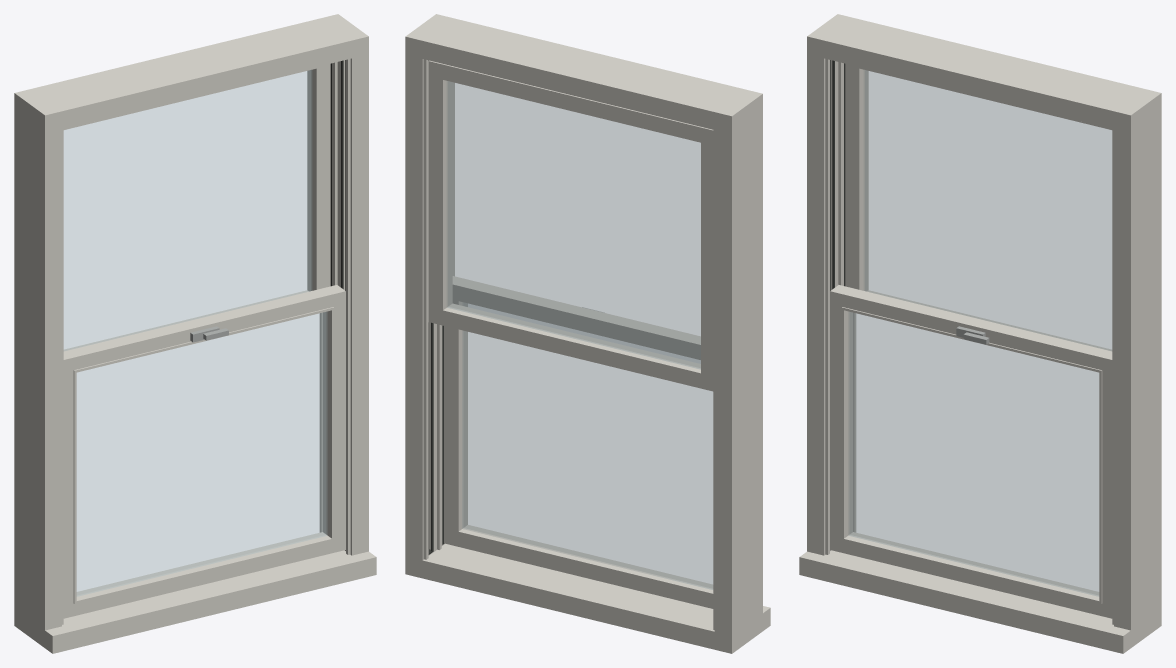
The picture shows the model from 3 angles, left to right: view 1: azimuth 30°, elevation 25°; view 2: azimuth 150°, elevation 25°; view 3: azimuth 330°, elevation 25°; orthographic projection.
Parts seen in each view (by area): view 1: Lower_sealed_glazing_solid, Upper_sealed_glazing_solid, Fixed_frame_head_jambs_sill, Lower_complete_rails_stiles, Interior_sill_projection, Upper_complete_rails_stiles, Lower_glazing_bead, 1_inner_jamb_stop, 1_divider_jamb_stop, Upper_glazing_bead, -1_inner_jamb_stop, Lower_1_enclosed_balance_case (+1 smaller); view 2: Fixed_frame_head_jambs_sill, Upper_sealed_glazing_solid, Lower_sealed_glazing_solid, Upper_complete_rails_stiles, Lower_complete_rails_stiles, 1_outer_jamb_stop, 1_divider_jamb_stop, -1_outer_jamb_stop, Upper_1_enclosed_balance_case, 1_inner_jamb_stop; view 3: Lower_sealed_glazing_solid, Upper_sealed_glazing_solid, Fixed_frame_head_jambs_sill, Lower_complete_rails_stiles, Interior_sill_projection, Upper_complete_rails_stiles, Lower_glazing_bead, -1_inner_jamb_stop, -1_divider_jamb_stop, Upper_glazing_bead, 1_inner_jamb_stop, Lower_-1_enclosed_balance_case (+1 smaller).
Boxes of the visible parts, x1,y1,x2,y2 form: Lower_sealed_glazing_solid: (77,312,327,596); Upper_sealed_glazing_solid: (64,70,311,350); Fixed_frame_head_jambs_sill: (14,14,368,647); Lower_complete_rails_stiles: (63,285,345,618); Interior_sill_projection: (45,551,376,653); Upper_complete_rails_stiles: (63,63,330,351); Lower_glazing_bead: (73,307,334,603); 1_inner_jamb_stop: (346,59,350,554); 1_divider_jamb_stop: (332,62,337,285); Upper_glazing_bead: (63,66,318,289); -1_inner_jamb_stop: (62,129,63,624); Lower_1_enclosed_balance_case: (341,60,345,550); Fixed_frame_head_jambs_sill: (405,14,762,653); Upper_sealed_glazing_solid: (447,81,700,369); Lower_sealed_glazing_solid: (462,303,712,589); Upper_complete_rails_stiles: (428,60,713,391); Lower_complete_rails_stiles: (444,276,713,608); 1_outer_jamb_stop: (423,59,428,559); 1_divider_jamb_stop: (437,324,441,549); -1_outer_jamb_stop: (713,130,714,629); Upper_1_enclosed_balance_case: (428,60,433,554); 1_inner_jamb_stop: (452,82,454,276); Lower_sealed_glazing_solid: (848,312,1098,596); Upper_sealed_glazing_solid: (864,70,1111,350); Fixed_frame_head_jambs_sill: (807,14,1161,647); Lower_complete_rails_stiles: (830,285,1112,618); Interior_sill_projection: (799,551,1130,653); Upper_complete_rails_stiles: (845,63,1112,351); Lower_glazing_bead: (841,307,1102,603); -1_inner_jamb_stop: (825,59,829,554); -1_divider_jamb_stop: (838,62,843,285); Upper_glazing_bead: (857,66,1112,289); 1_inner_jamb_stop: (1112,129,1113,624); Lower_-1_enclosed_balance_case: (830,60,834,550).
Size of the model in its own units: 0.854 by 1.34 by 0.175.
